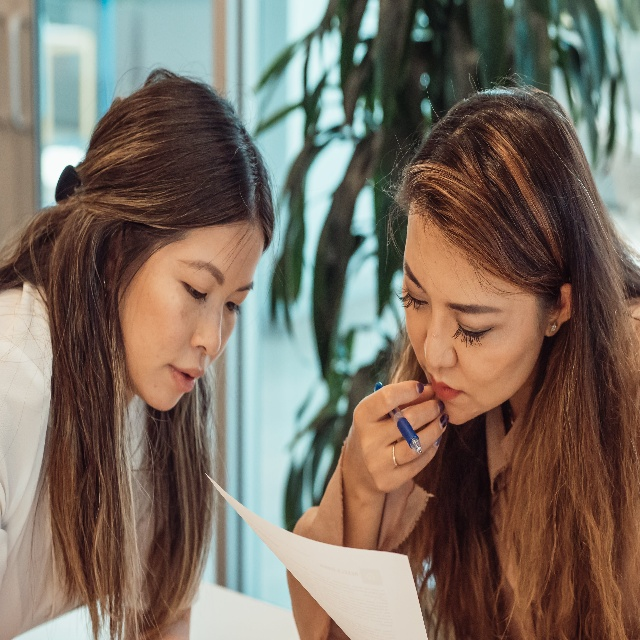Sin_guantes: (346, 379, 449, 496)
